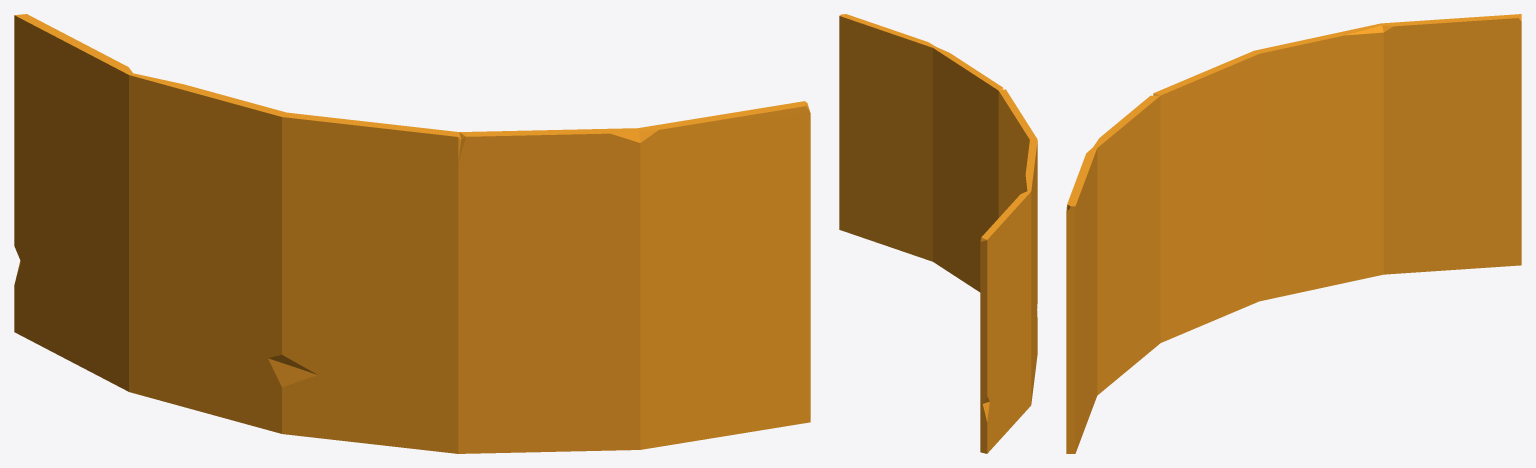
File: SM_Buildings_WallCurved_5x5_01P.fbx
The picture shows the model from 3 angles, left to right: view 1: azimuth 30°, elevation 25°; view 2: azimuth 150°, elevation 25°; view 3: azimuth 270°, elevation 25°; orthographic projection. The views are drawn at different scales.
Visible parts, largest first — view 1: SM_Buildings_WallCurved_5x5_01P; view 2: SM_Buildings_WallCurved_5x5_01P; view 3: SM_Buildings_WallCurved_5x5_01P.
Part boxes in pixels (x1=…): SM_Buildings_WallCurved_5x5_01P: x1=14, y1=14, x2=810, y2=453; SM_Buildings_WallCurved_5x5_01P: x1=839, y1=14, x2=1037, y2=453; SM_Buildings_WallCurved_5x5_01P: x1=1066, y1=14, x2=1521, y2=453.
Size of the model in its own units: 500 by 300 by 500.
